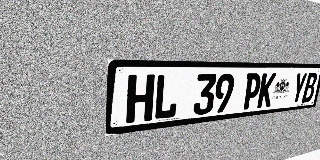3: (193, 74, 217, 116)
9: (213, 73, 236, 113)
B: (301, 72, 318, 103)
H: (126, 74, 155, 124)
K: (257, 73, 277, 108)
L: (153, 74, 180, 120)
P: (241, 73, 262, 110)
Y: (290, 73, 308, 104)
